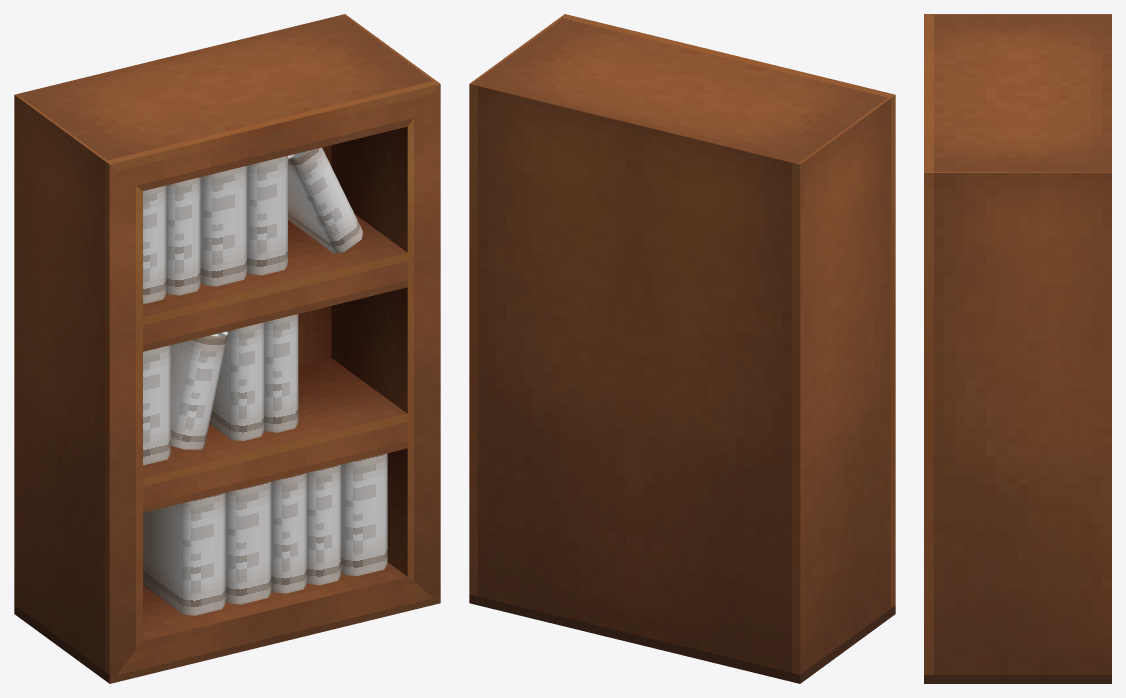
Rendered from Bookshelf 1.fbx.
3 views of the same model, side by side, from view 1: azimuth 30°, elevation 25°; view 2: azimuth 150°, elevation 25°; view 3: azimuth 270°, elevation 25° (orthographic).
Parts seen in each view (by area): view 1: bookshelf1; view 2: bookshelf1; view 3: bookshelf1.
Part boxes in pixels (x1,y1,x2,y2): bookshelf1: [14, 14, 440, 683]; bookshelf1: [469, 14, 895, 683]; bookshelf1: [924, 14, 1111, 683].
Size of the model in its own units: 1 by 1.5 by 0.5.
